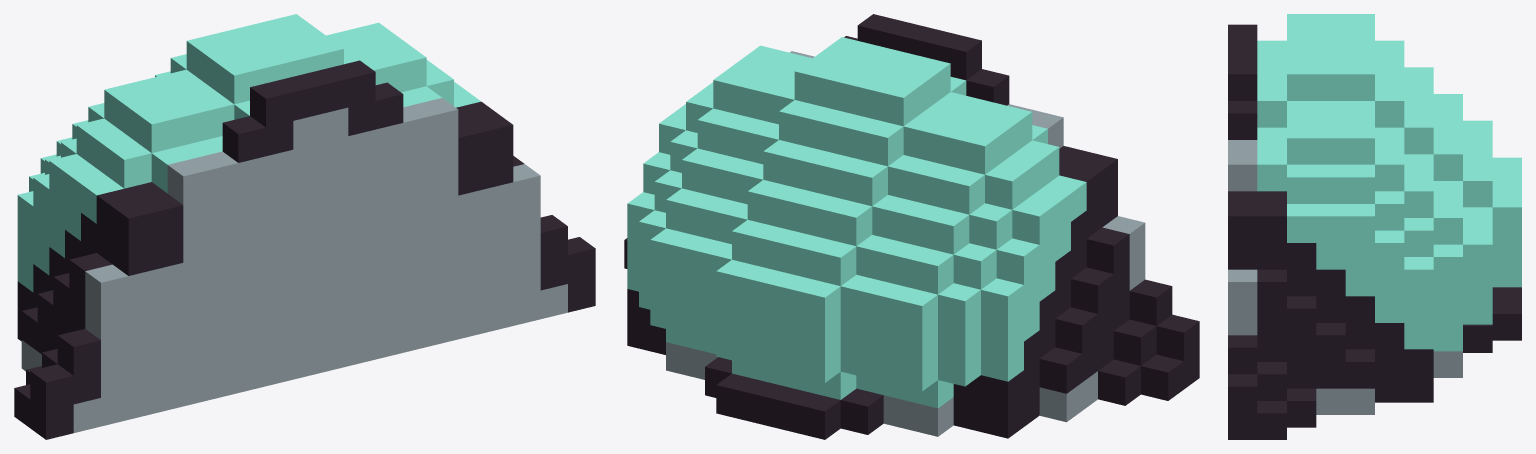
File: Ilumination-0.obj
The picture shows the model from 3 angles, left to right: view 1: azimuth 30°, elevation 25°; view 2: azimuth 150°, elevation 25°; view 3: azimuth 270°, elevation 25°; orthographic projection. The views are drawn at different scales.
Size of the model in its own units: 2 by 1 by 1.
Materials: 1 (1 with a texture image).
